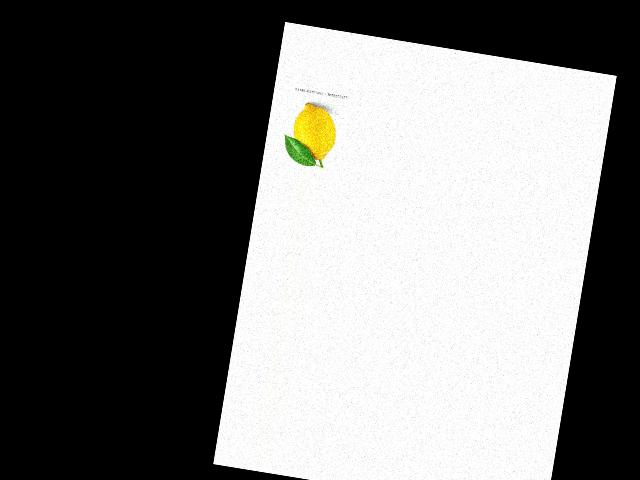lemon: (283, 100, 342, 165)
